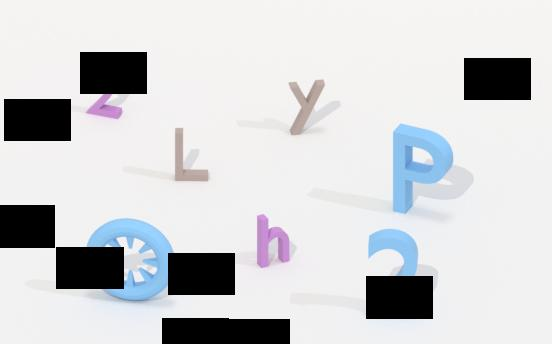2: (358, 225, 440, 328), (79, 56, 129, 125)
Y: (279, 72, 334, 146)
h: (250, 211, 293, 273)
l: (171, 119, 214, 187)
p: (382, 118, 454, 218)
tron: (82, 213, 182, 300)
